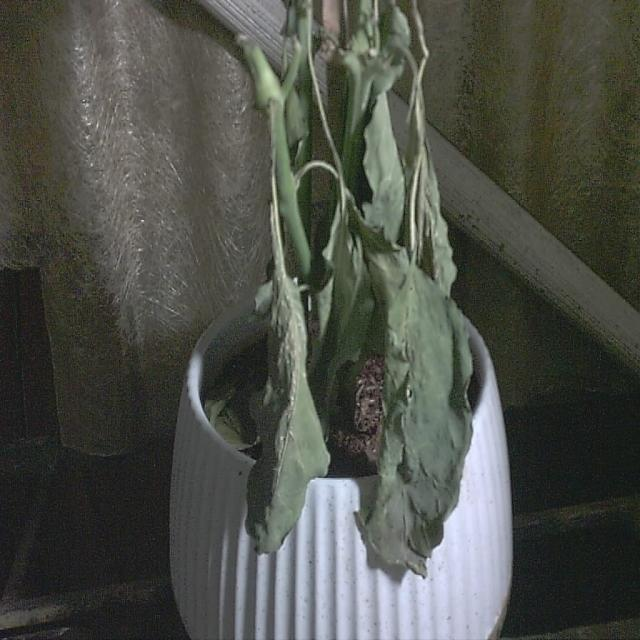Leaf: (351, 212, 474, 579), (242, 275, 332, 557)
